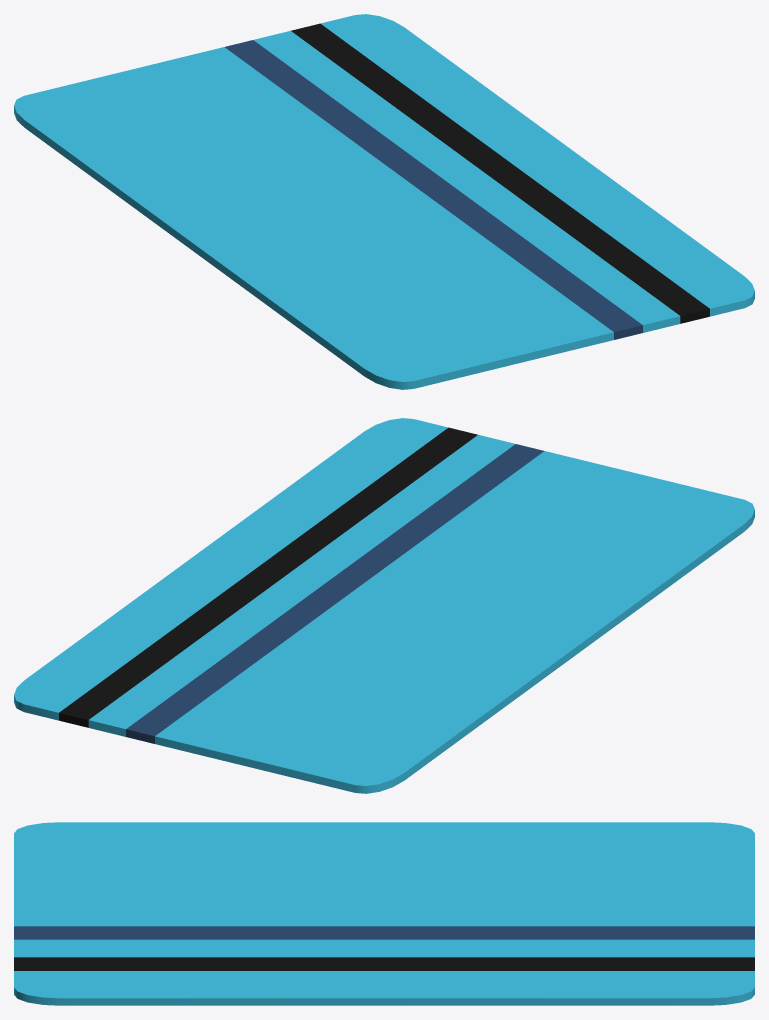
File: keycard.fbx
3 renders of one model, top to bottom at view 1: azimuth 30°, elevation 25°; view 2: azimuth 150°, elevation 25°; view 3: azimuth 270°, elevation 25°, orthographic. The views are drawn at different scales.
Parts seen in each view (by area): view 1: Plane; view 2: Plane; view 3: Plane.
Boxes of the visible parts, x1=… form: Plane: x1=14, y1=14, x2=754, y2=389; Plane: x1=14, y1=418, x2=754, y2=793; Plane: x1=14, y1=822, x2=754, y2=1005.
Bounding box in the file's own units: 0.4698 × 0.00923 × 0.8349.
